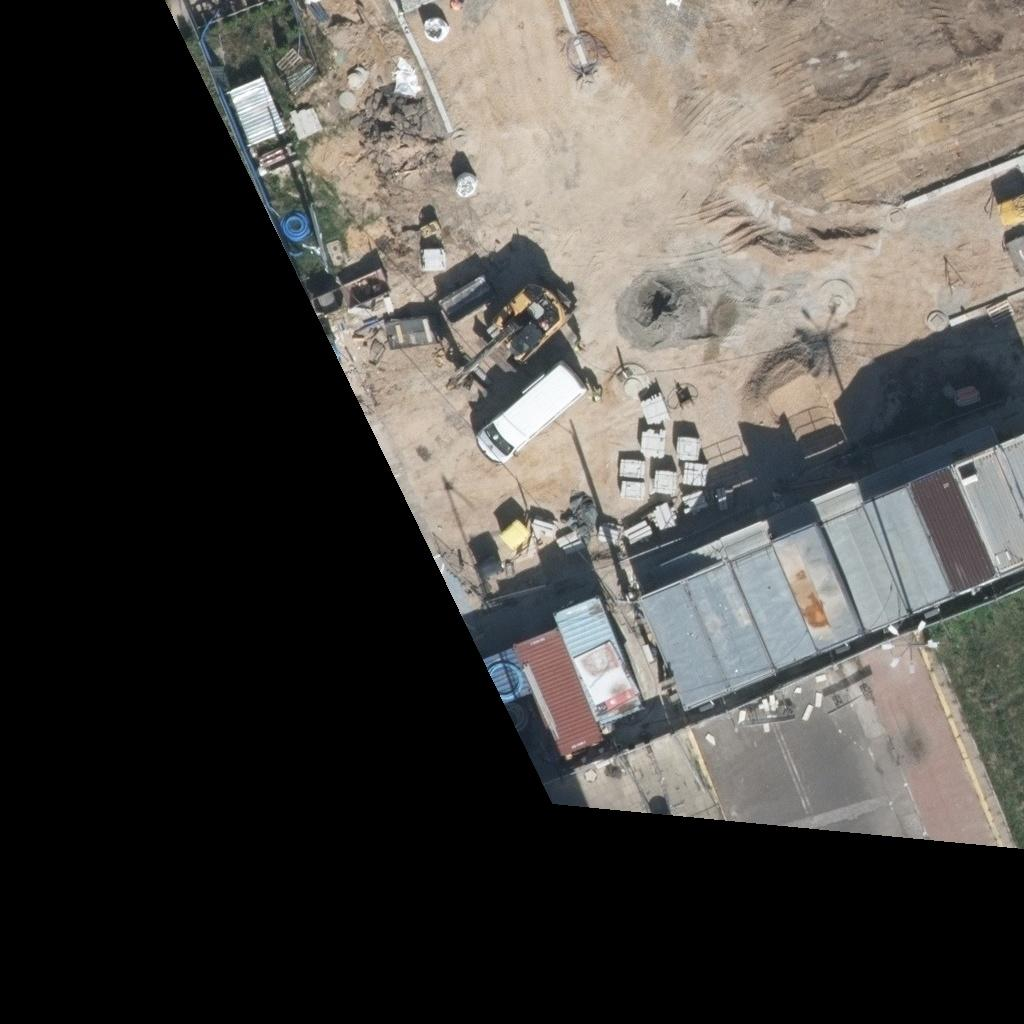koparka: (447, 285, 570, 389)
samochod_osobowy: (477, 363, 586, 462)
